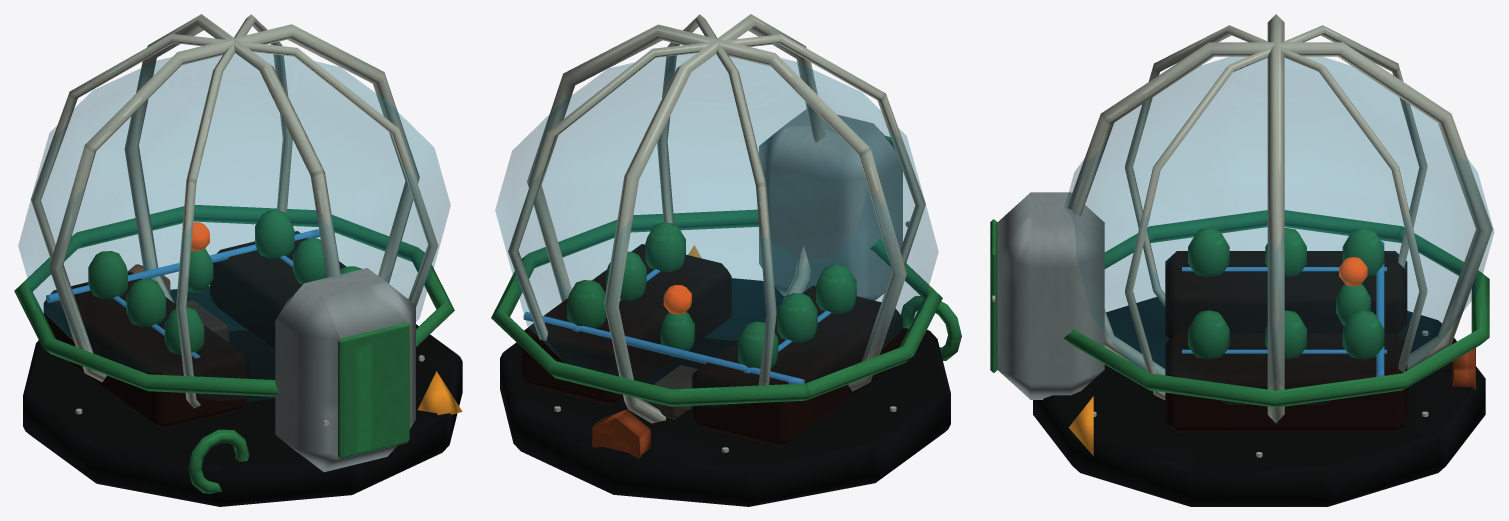
File: greenhouse-low.glb
The picture shows the model from 3 angles, left to right: view 1: azimuth 30°, elevation 25°; view 2: azimuth 150°, elevation 25°; view 3: azimuth 270°, elevation 25°; orthographic projection. The views are drawn at different scales.
Parts seen in each view (by area): view 1: Greenhouse_Glass.001, Greenhouse_Foundation.001, Greenhouse_Airlock.001, Planter_-1.001, Greenhouse_Base_Rib.001, Greenhouse_Rib_A.001, Greenhouse_Door.001, Greenhouse_Rib_B.001, Greenhouse_Rib_D.001, Planter_1.001, Greenhouse_Rib_C.001, PORT_Life.009 (+9 smaller); view 2: Greenhouse_Glass.001, Greenhouse_Foundation.001, Greenhouse_Airlock.001, Greenhouse_Base_Rib.001, Planter_-1.001, Planter_1.001, Greenhouse_Rib_A.001, Greenhouse_Rib_B.001, Greenhouse_Rib_C.001, Greenhouse_Rib_D.001, PORT_Material.013, Greenhouse_Irrigation_Header.001 (+10 smaller); view 3: Greenhouse_Glass.001, Greenhouse_Foundation.001, Greenhouse_Airlock.001, Planter_1.001, Greenhouse_Base_Rib.001, Greenhouse_Rib_B.001, Planter_-1.001, Greenhouse_Rib_A.001, Greenhouse_Rib_C.001, Greenhouse_Rib_D.001, CROP_SOCKET_R_2.001, CROP_SOCKET_R_0.001 (+10 smaller).
Boxes of the visible parts, bbox=[...] form: Greenhouse_Glass.001: bbox=[18, 52, 450, 400]; Greenhouse_Foundation.001: bbox=[23, 286, 462, 506]; Greenhouse_Airlock.001: bbox=[275, 268, 415, 472]; Planter_-1.001: bbox=[43, 271, 248, 429]; Greenhouse_Base_Rib.001: bbox=[14, 205, 454, 396]; Greenhouse_Rib_A.001: bbox=[49, 24, 419, 382]; Greenhouse_Door.001: bbox=[338, 322, 409, 458]; Greenhouse_Rib_B.001: bbox=[124, 14, 340, 303]; Greenhouse_Rib_D.001: bbox=[31, 33, 438, 306]; Planter_1.001: bbox=[210, 231, 345, 349]; Greenhouse_Rib_C.001: bbox=[176, 14, 292, 408]; PORT_Life.009: bbox=[188, 429, 249, 493]; Greenhouse_Glass.001: bbox=[495, 53, 938, 409]; Greenhouse_Foundation.001: bbox=[500, 278, 950, 506]; Greenhouse_Airlock.001: bbox=[759, 109, 902, 300]; Greenhouse_Base_Rib.001: bbox=[491, 209, 942, 406]; Planter_-1.001: bbox=[692, 285, 902, 447]; Planter_1.001: bbox=[521, 244, 731, 405]; Greenhouse_Rib_A.001: bbox=[527, 24, 906, 391]; Greenhouse_Rib_B.001: bbox=[604, 14, 826, 423]; Greenhouse_Rib_C.001: bbox=[508, 34, 925, 340]; Greenhouse_Rib_D.001: bbox=[657, 14, 776, 385]; PORT_Material.013: bbox=[592, 410, 650, 458]; Greenhouse_Irrigation_Header.001: bbox=[523, 312, 804, 383]; Greenhouse_Glass.001: bbox=[1065, 57, 1494, 404]; Greenhouse_Foundation.001: bbox=[1033, 297, 1485, 506]; Greenhouse_Airlock.001: bbox=[997, 192, 1104, 399]; Planter_1.001: bbox=[1165, 333, 1407, 432]; Greenhouse_Base_Rib.001: bbox=[1063, 210, 1489, 407]; Greenhouse_Rib_B.001: bbox=[1067, 42, 1492, 375]; Planter_-1.001: bbox=[1165, 251, 1407, 341]; Greenhouse_Rib_A.001: bbox=[1267, 14, 1284, 423]; Greenhouse_Rib_C.001: bbox=[1125, 25, 1427, 372]; Greenhouse_Rib_D.001: bbox=[1125, 25, 1427, 399]; CROP_SOCKET_R_2.001: bbox=[1342, 310, 1384, 359]; CROP_SOCKET_R_0.001: bbox=[1188, 310, 1229, 359].
Size of the model in its own units: 1.34 by 1.23 by 1.5.
11 materials, 11 textured.
